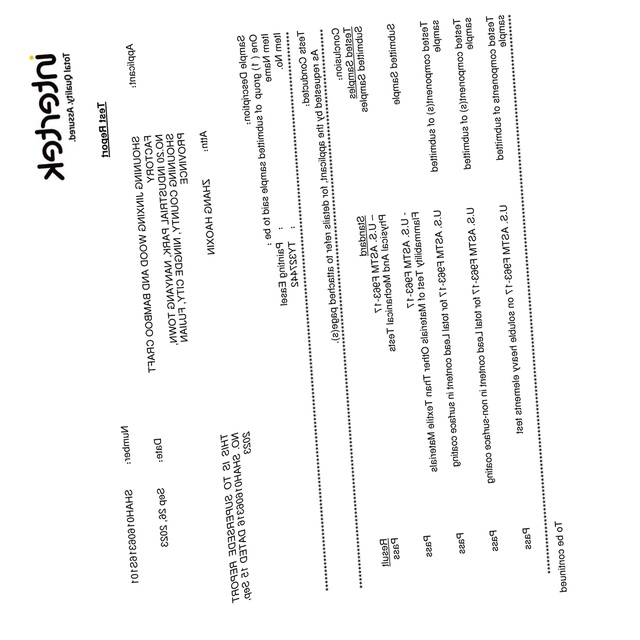intertek: (26, 52, 68, 188)
